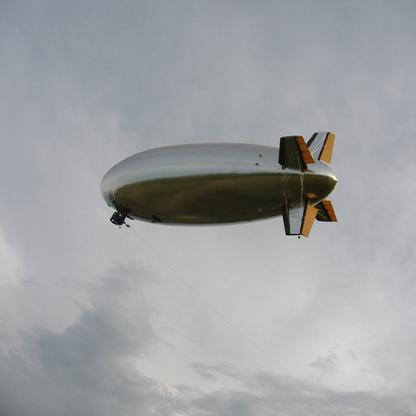Airship: (101, 129, 340, 240)
